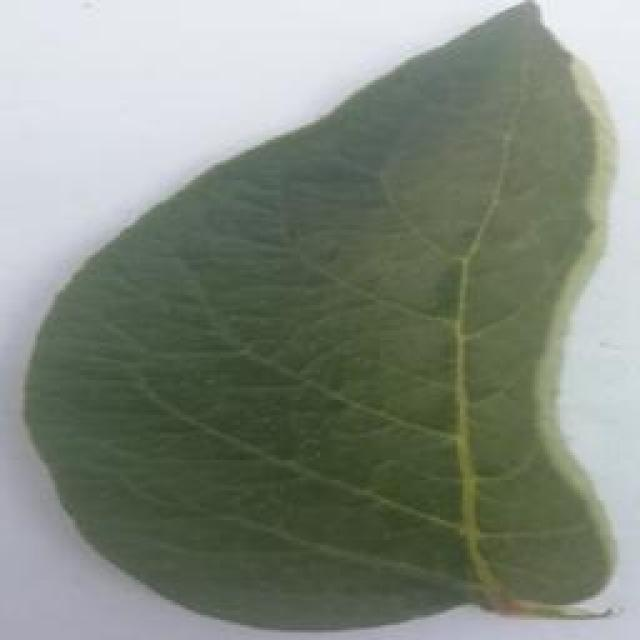Potato_Healthy: (22, 5, 616, 622)
